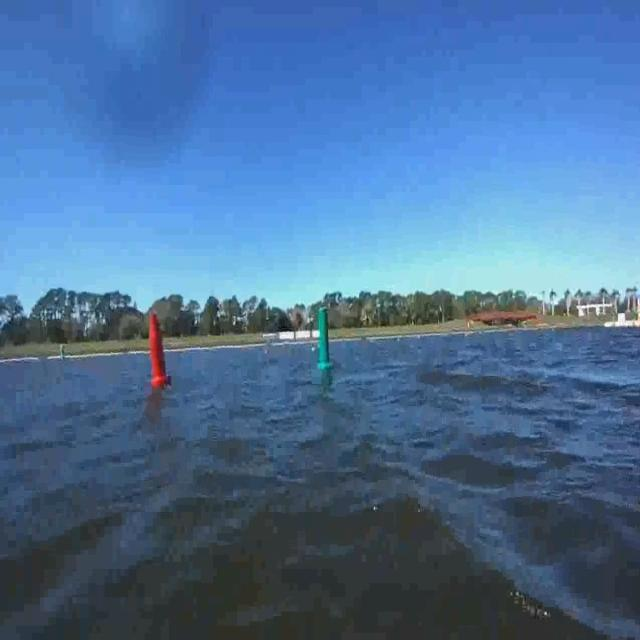green-column-buoy: (315, 307, 333, 372)
red-column-buoy: (150, 312, 172, 388)
